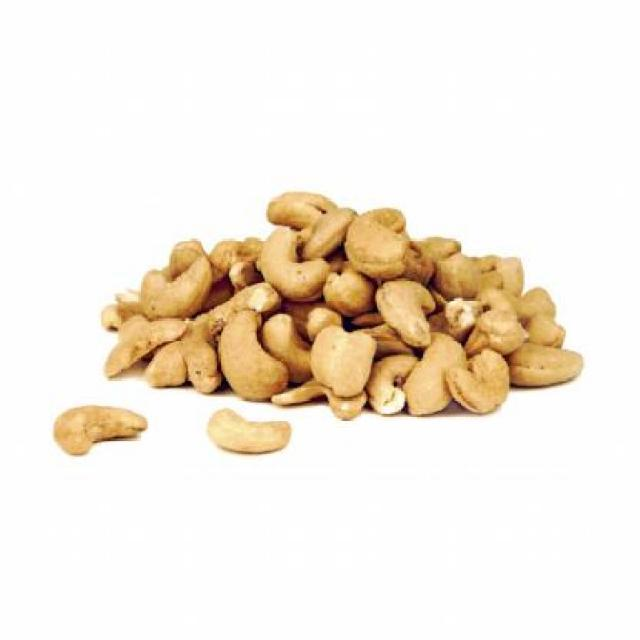Frutta secca: (56, 190, 590, 450)
